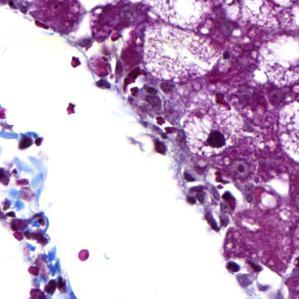ballooning: (140, 22, 224, 84), (182, 102, 248, 160)
